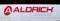SigmaAldrich: (3, 5, 56, 16)
